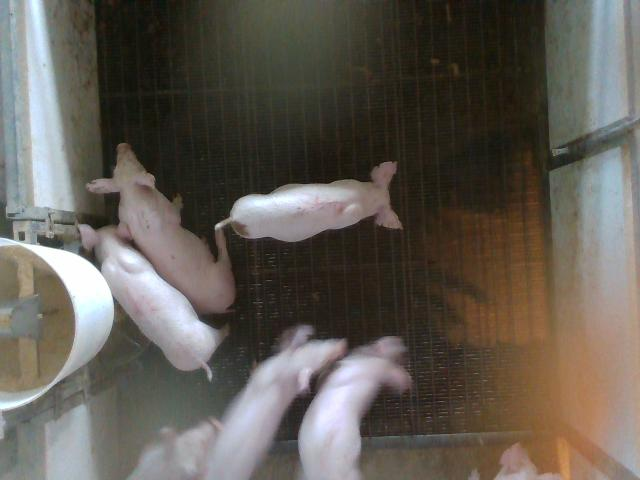pig-4: (81, 222, 228, 378)
pig-5: (215, 161, 402, 242)
